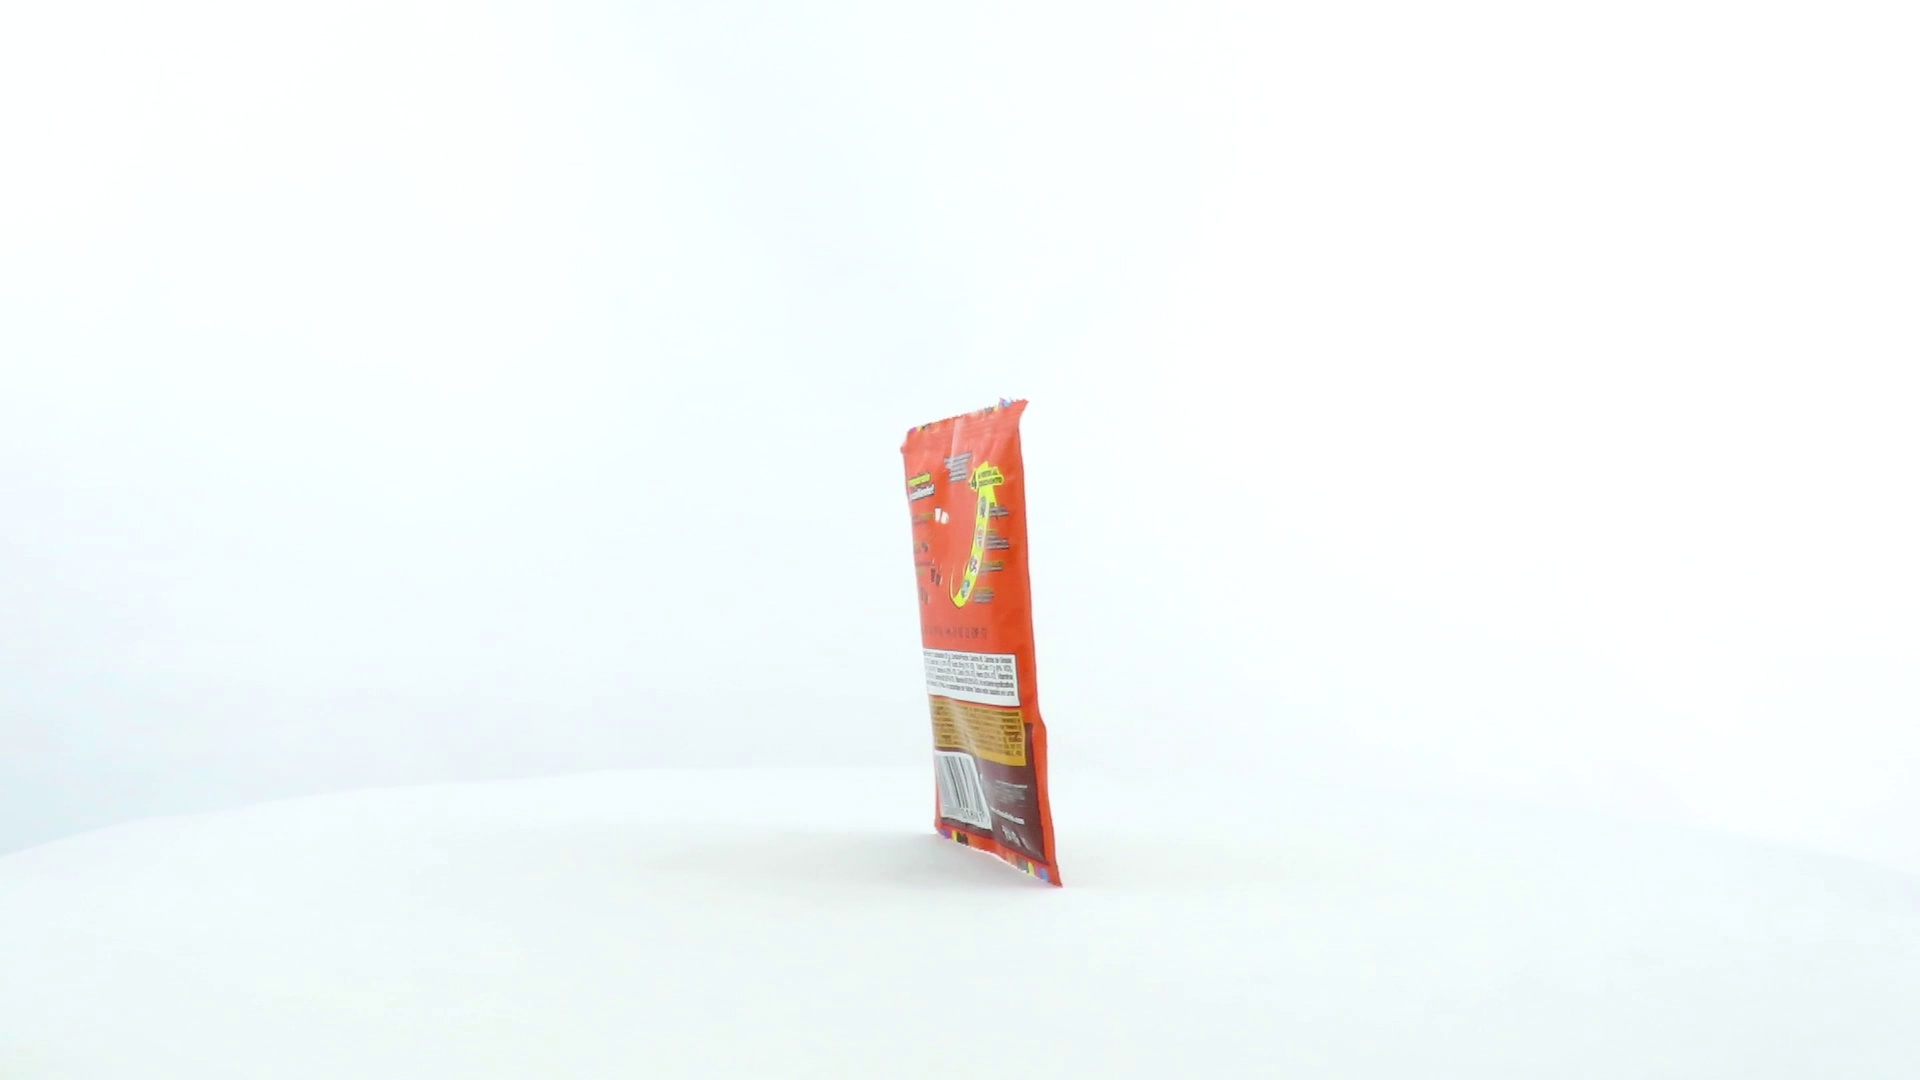COL0170103SOB02000: (895, 392, 1069, 894)
